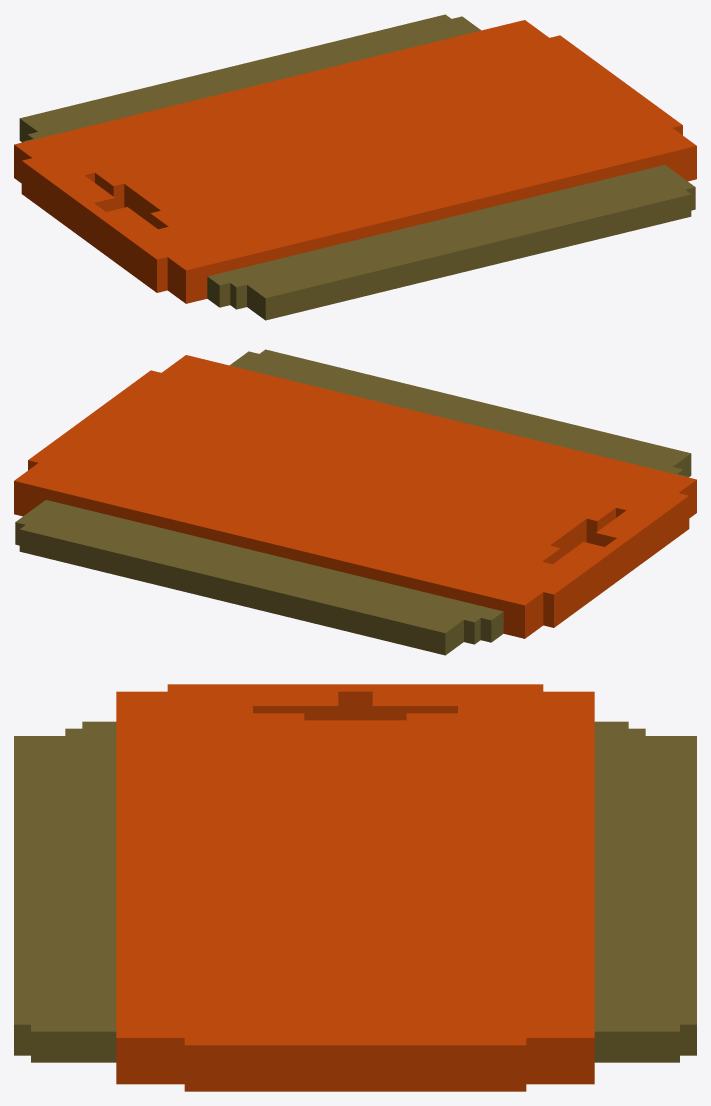
Rendered from cheese_table.fbx.
The picture shows the model from 3 angles, top to bottom: view 1: azimuth 30°, elevation 25°; view 2: azimuth 150°, elevation 25°; view 3: azimuth 270°, elevation 25°; orthographic projection. The views are drawn at different scales.
Visible parts, largest first — view 1: Cheese_table; view 2: Cheese_table; view 3: Cheese_table.
Part boxes in pixels (<box>): Cheese_table: <box>14,14,696,320</box>; Cheese_table: <box>14,349,696,655</box>; Cheese_table: <box>14,684,696,1091</box>.
Size of the model in its own units: 500 by 30 by 400.
